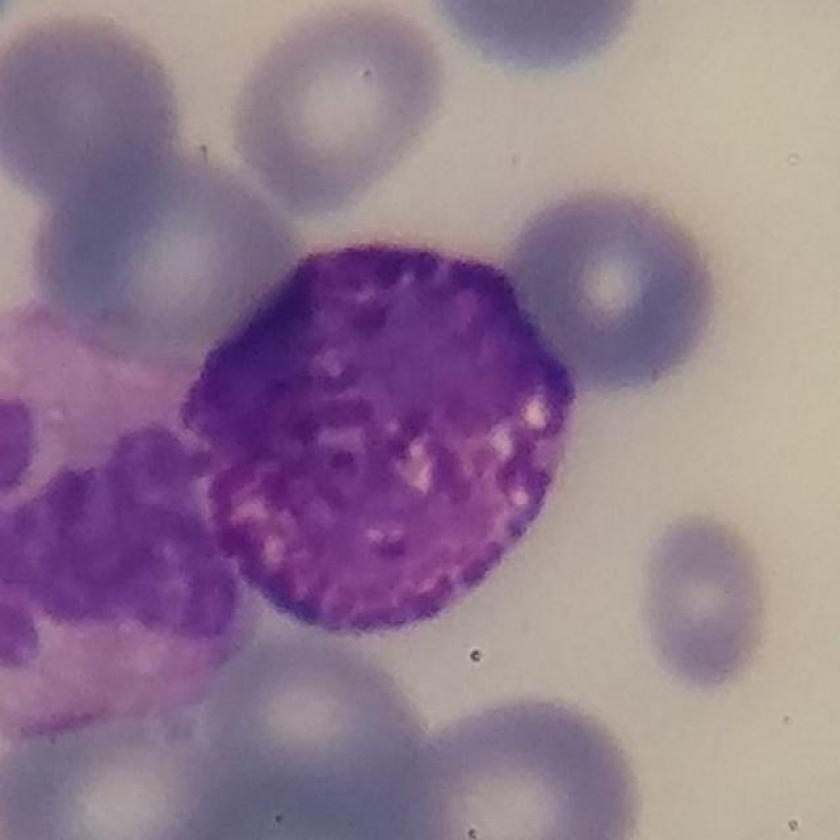basophil: (183, 231, 584, 638)
